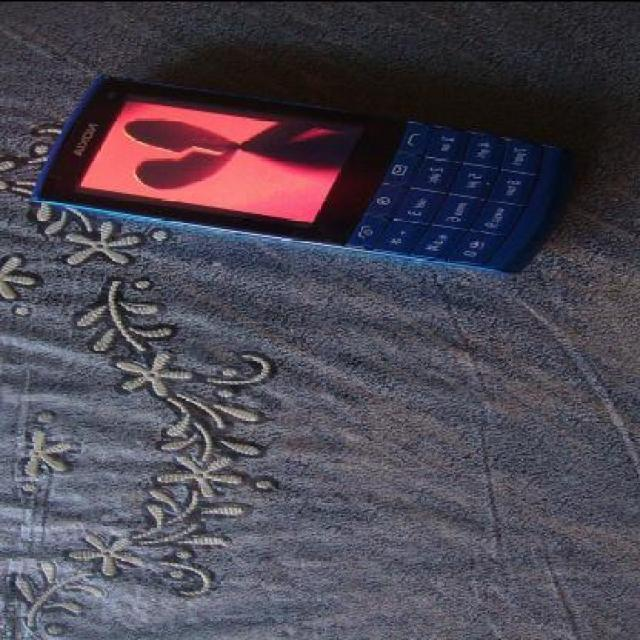phone: (0, 77, 588, 268)
